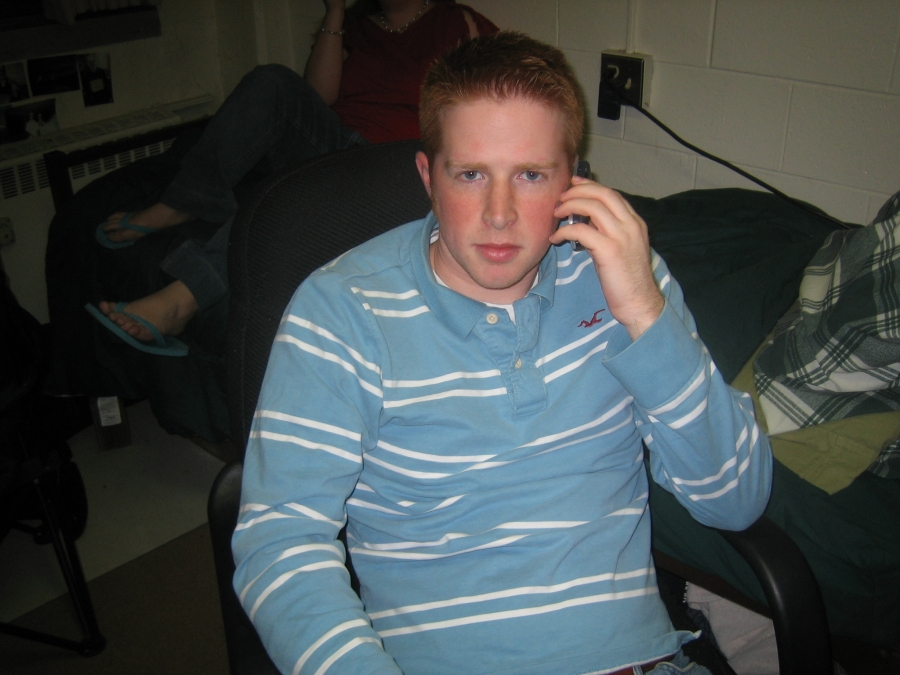phone: (560, 160, 620, 275)
talk: (441, 142, 655, 308)
